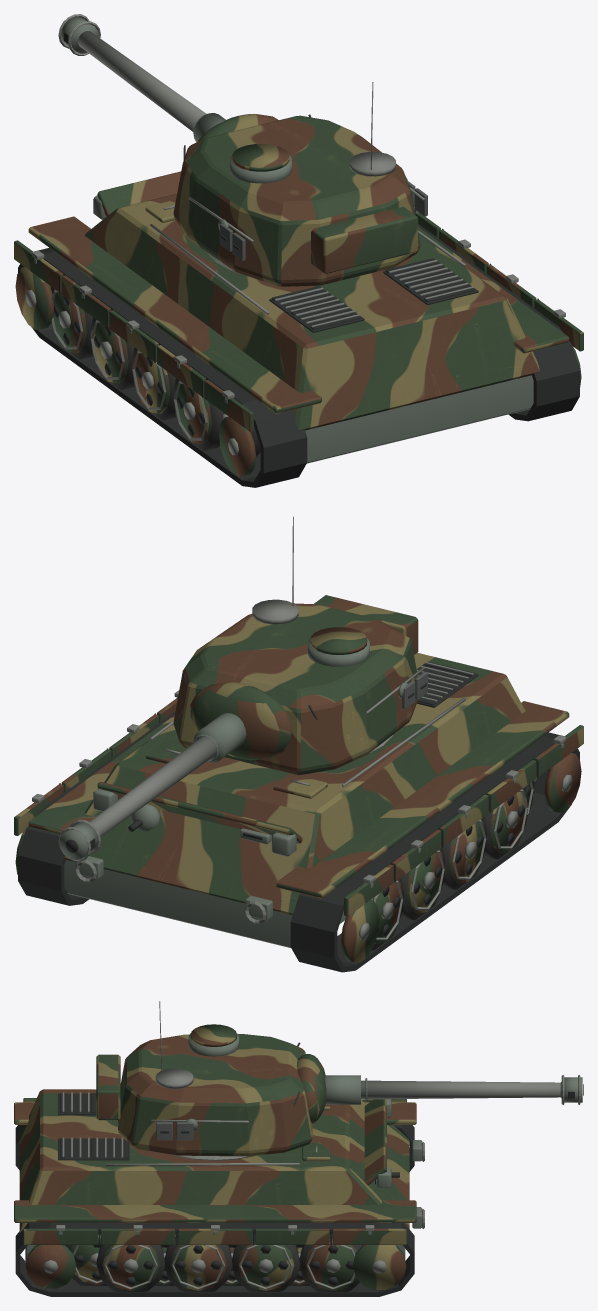
Rendered from panther-g-sample.glb.
3 renders of one model, top to bottom at view 1: azimuth 30°, elevation 25°; view 2: azimuth 150°, elevation 25°; view 3: azimuth 270°, elevation 25°, orthographic. The views are drawn at different scales.
Parts seen in each view (by area): view 1: Hull_RolledSteel_PhotoPaint_PBR, TurretPivot_RolledSteel_PhotoPaint_PBR, RunningGear_DeepRecesses, Hull_CastDarkEdges, Hull_DeepRecesses, Hull_WornMachinedSteel, BarrelPivot_WornMachinedSteel, L_FrontSprocket_PressedFace, L_RearIdler_PressedFace, TurretPivot_WornMachinedSteel, BarrelPivot_CastDarkEdges, L5_PressedDisc (+6 smaller); view 2: Hull_RolledSteel_PhotoPaint_PBR, TurretPivot_RolledSteel_PhotoPaint_PBR, RunningGear_DeepRecesses, Hull_CastDarkEdges, BarrelPivot_WornMachinedSteel, Hull_WornMachinedSteel, BarrelPivot_CastDarkEdges, L_FrontSprocket_PressedFace, L_RearIdler_PressedFace, Hull_DeepRecesses, TurretPivot_WornMachinedSteel, L3_PressedDisc (+4 smaller); view 3: Hull_RolledSteel_PhotoPaint_PBR, TurretPivot_RolledSteel_PhotoPaint_PBR, RunningGear_DeepRecesses, BarrelPivot_WornMachinedSteel, Hull_DeepRecesses, Hull_WornMachinedSteel, R_FrontSprocket_PressedFace, R_RearIdler_PressedFace, R5_PressedDisc, R1_PressedDisc, R3_PressedDisc, BarrelPivot_CastDarkEdges (+14 smaller).
Part boxes in pixels (x1,y1,x2,y2): Hull_RolledSteel_PhotoPaint_PBR: [14, 171, 583, 431]; TurretPivot_RolledSteel_PhotoPaint_PBR: [173, 113, 420, 287]; RunningGear_DeepRecesses: [18, 224, 579, 487]; Hull_CastDarkEdges: [34, 195, 533, 463]; Hull_DeepRecesses: [59, 211, 538, 397]; Hull_WornMachinedSteel: [32, 205, 565, 399]; BarrelPivot_WornMachinedSteel: [58, 14, 205, 131]; L_FrontSprocket_PressedFace: [15, 267, 53, 329]; L_RearIdler_PressedFace: [219, 416, 255, 476]; TurretPivot_WornMachinedSteel: [188, 82, 424, 242]; BarrelPivot_CastDarkEdges: [61, 17, 225, 142]; L5_PressedDisc: [91, 319, 128, 383]; Hull_RolledSteel_PhotoPaint_PBR: [14, 652, 583, 916]; TurretPivot_RolledSteel_PhotoPaint_PBR: [173, 595, 418, 775]; RunningGear_DeepRecesses: [18, 712, 579, 972]; Hull_CastDarkEdges: [34, 732, 563, 947]; BarrelPivot_WornMachinedSteel: [58, 735, 219, 861]; Hull_WornMachinedSteel: [32, 662, 565, 923]; BarrelPivot_CastDarkEdges: [59, 713, 246, 859]; L_FrontSprocket_PressedFace: [341, 900, 379, 962]; L_RearIdler_PressedFace: [544, 753, 581, 812]; Hull_DeepRecesses: [59, 661, 538, 882]; TurretPivot_WornMachinedSteel: [252, 516, 424, 713]; L3_PressedDisc: [448, 819, 486, 883]; Hull_RolledSteel_PhotoPaint_PBR: [14, 1089, 416, 1244]; TurretPivot_RolledSteel_PhotoPaint_PBR: [96, 1024, 326, 1156]; RunningGear_DeepRecesses: [15, 1125, 414, 1296]; BarrelPivot_WornMachinedSteel: [361, 1075, 580, 1104]; Hull_DeepRecesses: [58, 1093, 399, 1244]; Hull_WornMachinedSteel: [56, 1092, 424, 1230]; R_FrontSprocket_PressedFace: [353, 1245, 406, 1289]; R_RearIdler_PressedFace: [25, 1245, 76, 1288]; R5_PressedDisc: [237, 1241, 294, 1290]; R1_PressedDisc: [102, 1245, 159, 1290]; R3_PressedDisc: [169, 1245, 226, 1290]; BarrelPivot_CastDarkEdges: [325, 1075, 582, 1104].
Size of the model in its own units: 4.52 by 3.91 by 8.11.
Materials: 7 (2 with a texture image).
